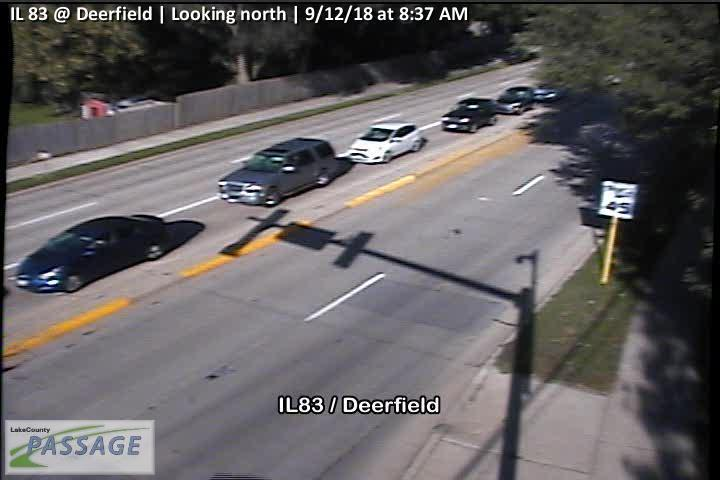SUV: (217, 138, 337, 209), (347, 121, 422, 166), (440, 97, 496, 135), (495, 86, 534, 115)
Sedan: (11, 214, 169, 294)
